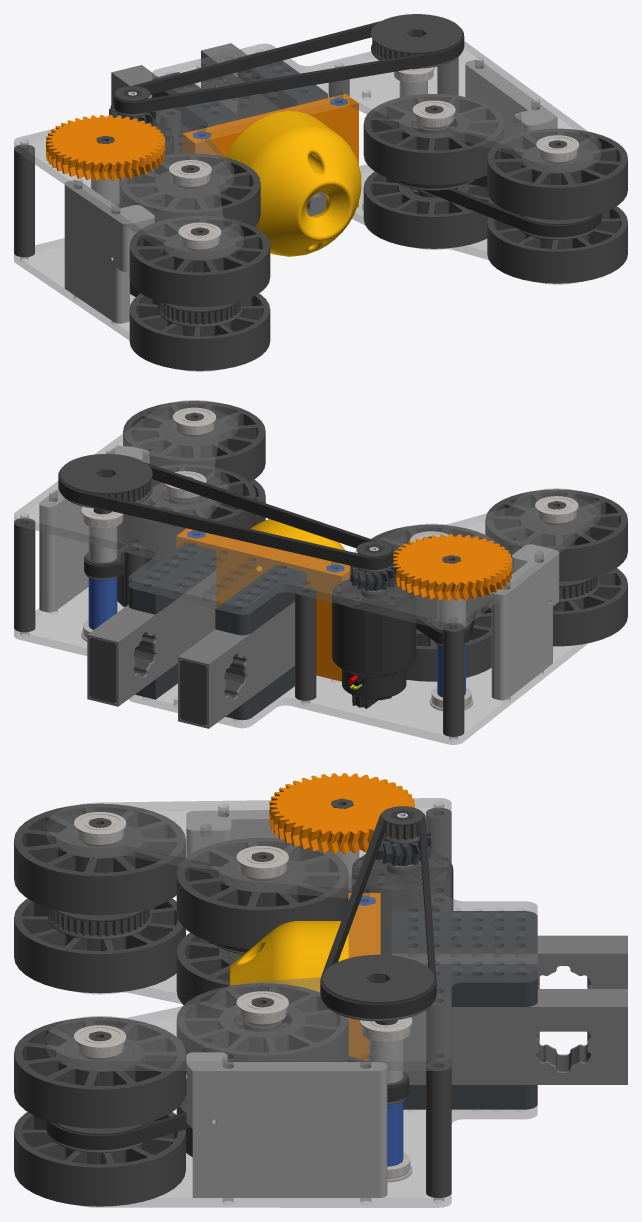
The picture shows the model from 3 angles, top to bottom: view 1: azimuth 30°, elevation 25°; view 2: azimuth 150°, elevation 25°; view 3: azimuth 270°, elevation 25°; orthographic projection. The views are drawn at different scales.
Visible parts, largest first — view 1: Top Plate, 4" OD 1/2" Hex Bore Compliant Wheel 60A (am-3480) (×4), 4" OD 1/2" Hex Bore Compliant Wheel 35A (am-3480) (×3), Camera Cone, 120t 5mm Belt, Part 31, Spur gear (41 teeth), Thunderhex ID 1.125 OD Flanged Bearing (217-4006) (×5), round spacer (×3), Backstop, Part 32, 41t HTD Pulley 9.53mm Wide (+8 smaller); view 2: Top Plate, 4" OD 1/2" Hex Bore Compliant Wheel 60A (am-3480) (×3), bottom plate, 4" OD 1/2" Hex Bore Compliant Wheel 35A (am-3480) (×3), Falcon 500 (V1/2), round spacer (×4), Part 31, 120t 5mm Belt, Mxaplsine 1x2, maxspline 1x2, Spur gear (41 teeth), Backstop (+17 smaller); view 3: Top Plate, 4" OD 1/2" Hex Bore Compliant Wheel 60A (am-3480) (×4), Part 32, 4" OD 1/2" Hex Bore Compliant Wheel 35A (am-3480) (×3), Mxaplsine 1x2, Spur gear (41 teeth), bottom plate, round spacer (×3), Thunderhex ID 1.125 OD Flanged Bearing (217-4006) (×5), Intake spacer 3, maxspline 1x2, Camera Cone (+14 smaller).
Part boxes in pixels (bbox=[...]): Top Plate: bbox=[14, 41, 601, 259]; 4" OD 1/2" Hex Bore Compliant Wheel 60A (am-3480) (×4): bbox=[129, 128, 627, 370]; 4" OD 1/2" Hex Bore Compliant Wheel 35A (am-3480) (×3): bbox=[120, 94, 504, 248]; Camera Cone: bbox=[225, 111, 361, 256]; 120t 5mm Belt: bbox=[113, 21, 464, 114]; Part 31: bbox=[64, 180, 154, 323]; Spur gear (41 teeth): bbox=[46, 115, 164, 181]; Thunderhex ID 1.125 OD Flanged Bearing (217-4006) (×5): bbox=[169, 67, 579, 249]; round spacer (×3): bbox=[14, 57, 458, 257]; Backstop: bbox=[182, 94, 358, 207]; Part 32: bbox=[465, 60, 557, 138]; 41t HTD Pulley 9.53mm Wide: bbox=[371, 14, 462, 68]; Top Plate: bbox=[14, 400, 601, 631]; 4" OD 1/2" Hex Bore Compliant Wheel 60A (am-3480) (×3): bbox=[123, 401, 627, 646]; bottom plate: bbox=[14, 587, 587, 744]; 4" OD 1/2" Hex Bore Compliant Wheel 35A (am-3480) (×3): bbox=[117, 464, 497, 681]; Falcon 500 (V1/2): bbox=[332, 579, 416, 708]; round spacer (×4): bbox=[14, 518, 464, 736]; Part 31: bbox=[491, 544, 559, 700]; 120t 5mm Belt: bbox=[58, 462, 393, 569]; Mxaplsine 1x2: bbox=[87, 571, 216, 706]; maxspline 1x2: bbox=[178, 601, 294, 728]; Spur gear (41 teeth): bbox=[393, 534, 511, 600]; Backstop: bbox=[176, 528, 350, 681]; Top Plate: bbox=[46, 798, 537, 1070]; 4" OD 1/2" Hex Bore Compliant Wheel 60A (am-3480) (×4): bbox=[14, 803, 185, 1206]; Part 32: bbox=[186, 1052, 387, 1197]; 4" OD 1/2" Hex Bore Compliant Wheel 35A (am-3480) (×3): bbox=[176, 837, 348, 1074]; Mxaplsine 1x2: bbox=[403, 989, 627, 1084]; Spur gear (41 teeth): bbox=[269, 773, 414, 853]; bottom plate: bbox=[75, 973, 537, 1207]; round spacer (×3): bbox=[426, 808, 451, 1197]; Thunderhex ID 1.125 OD Flanged Bearing (217-4006) (×5): bbox=[73, 812, 412, 1058]; Intake spacer 3: bbox=[391, 911, 537, 953]; maxspline 1x2: bbox=[391, 935, 627, 1031]; Camera Cone: bbox=[229, 921, 348, 1018].
Bounding box in the file's own units: 0.3999 × 0.1265 × 0.3628.
